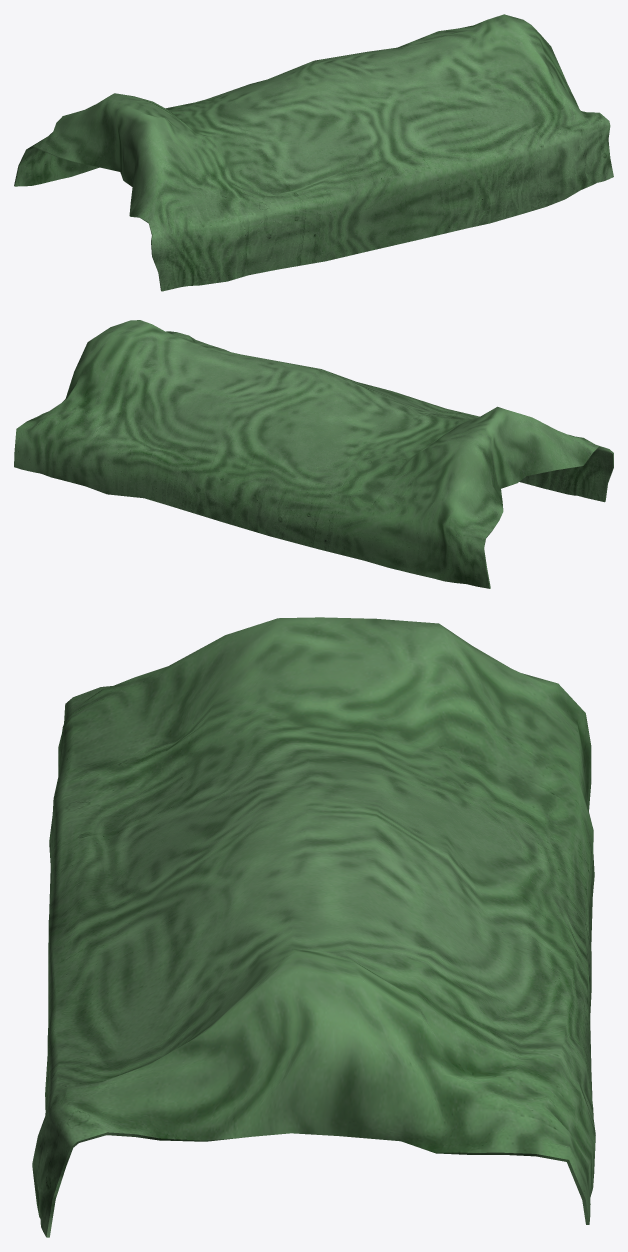
Rendered from HH_Body_Cover_01.fbx.
3 views of the same model, one above another, from view 1: azimuth 30°, elevation 25°; view 2: azimuth 150°, elevation 25°; view 3: azimuth 270°, elevation 25° (orthographic). The views are drawn at different scales.
Parts seen in each view (by area): view 1: HH_Body_Cover_01_LOD0; view 2: HH_Body_Cover_01_LOD0; view 3: HH_Body_Cover_01_LOD0.
Boxes of the visible parts, x1,y1,x2,y2 form: HH_Body_Cover_01_LOD0: [14, 14, 613, 291]; HH_Body_Cover_01_LOD0: [14, 320, 613, 588]; HH_Body_Cover_01_LOD0: [32, 617, 595, 1237].
Size of what is drawn, in the model's own units: 210 by 55.5 by 107.
